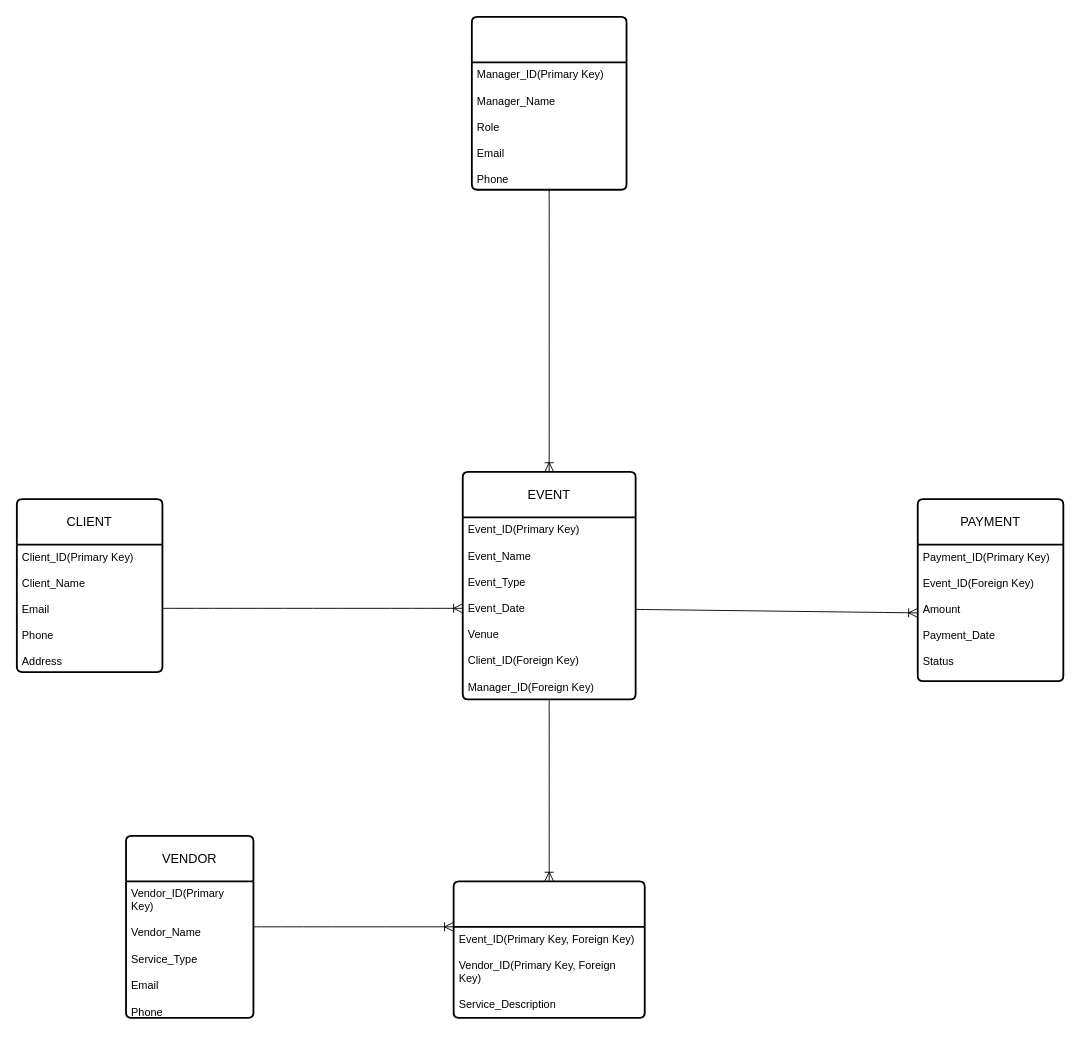
Image size: 1079x1040. Some labels were removed from this diagram. Here are the shapes that lost their labels. From the top down, the box of each, then its label:
(470, 15, 627, 190): EMPLOYEE
(452, 880, 645, 1018): EVENT_VENDOR
